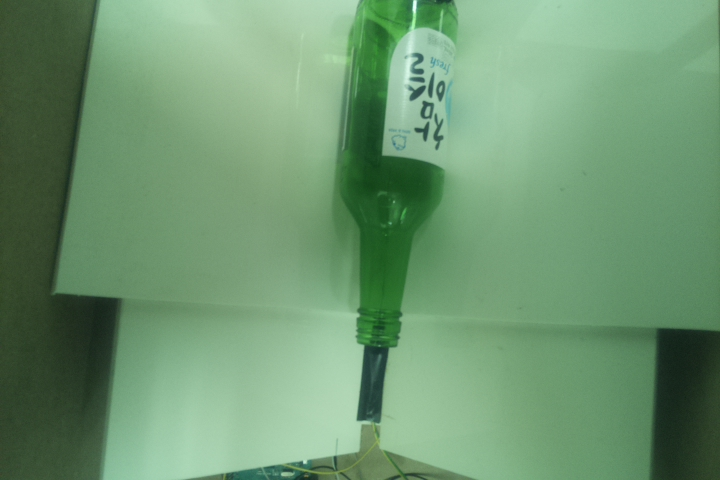soju: (335, 1, 458, 349)
